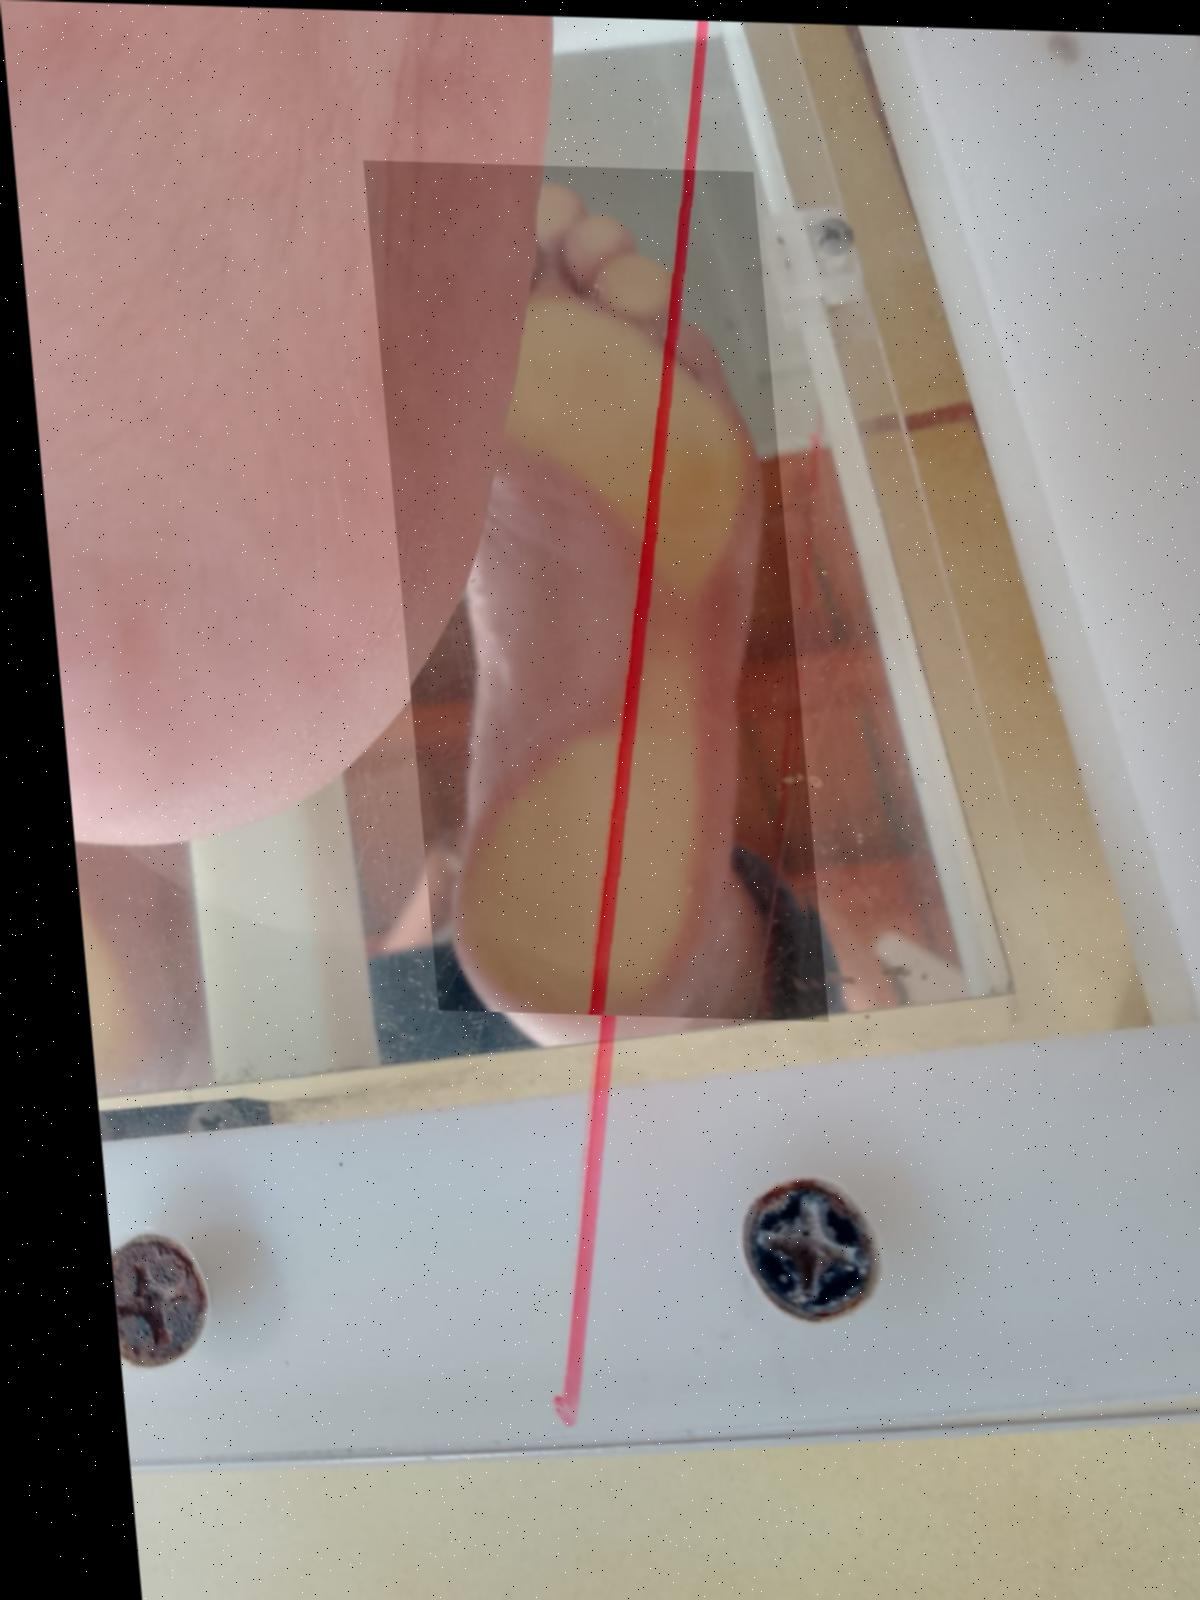Present: (361, 159, 811, 1017)
